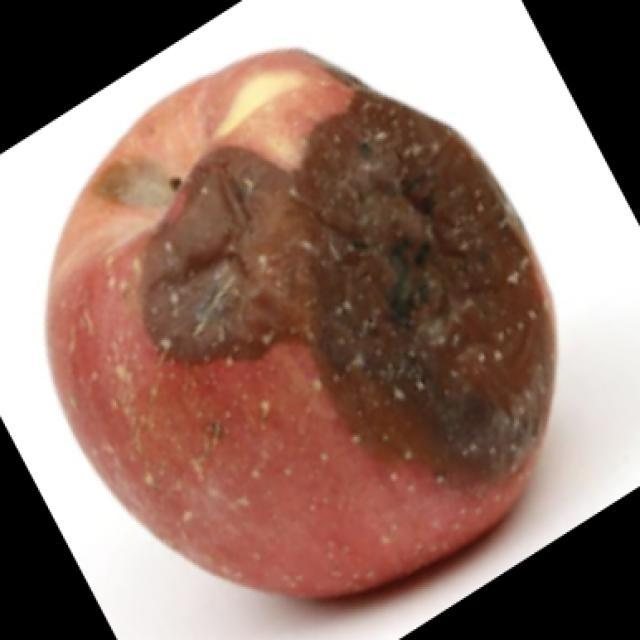Rotten: (55, 45, 552, 605)
